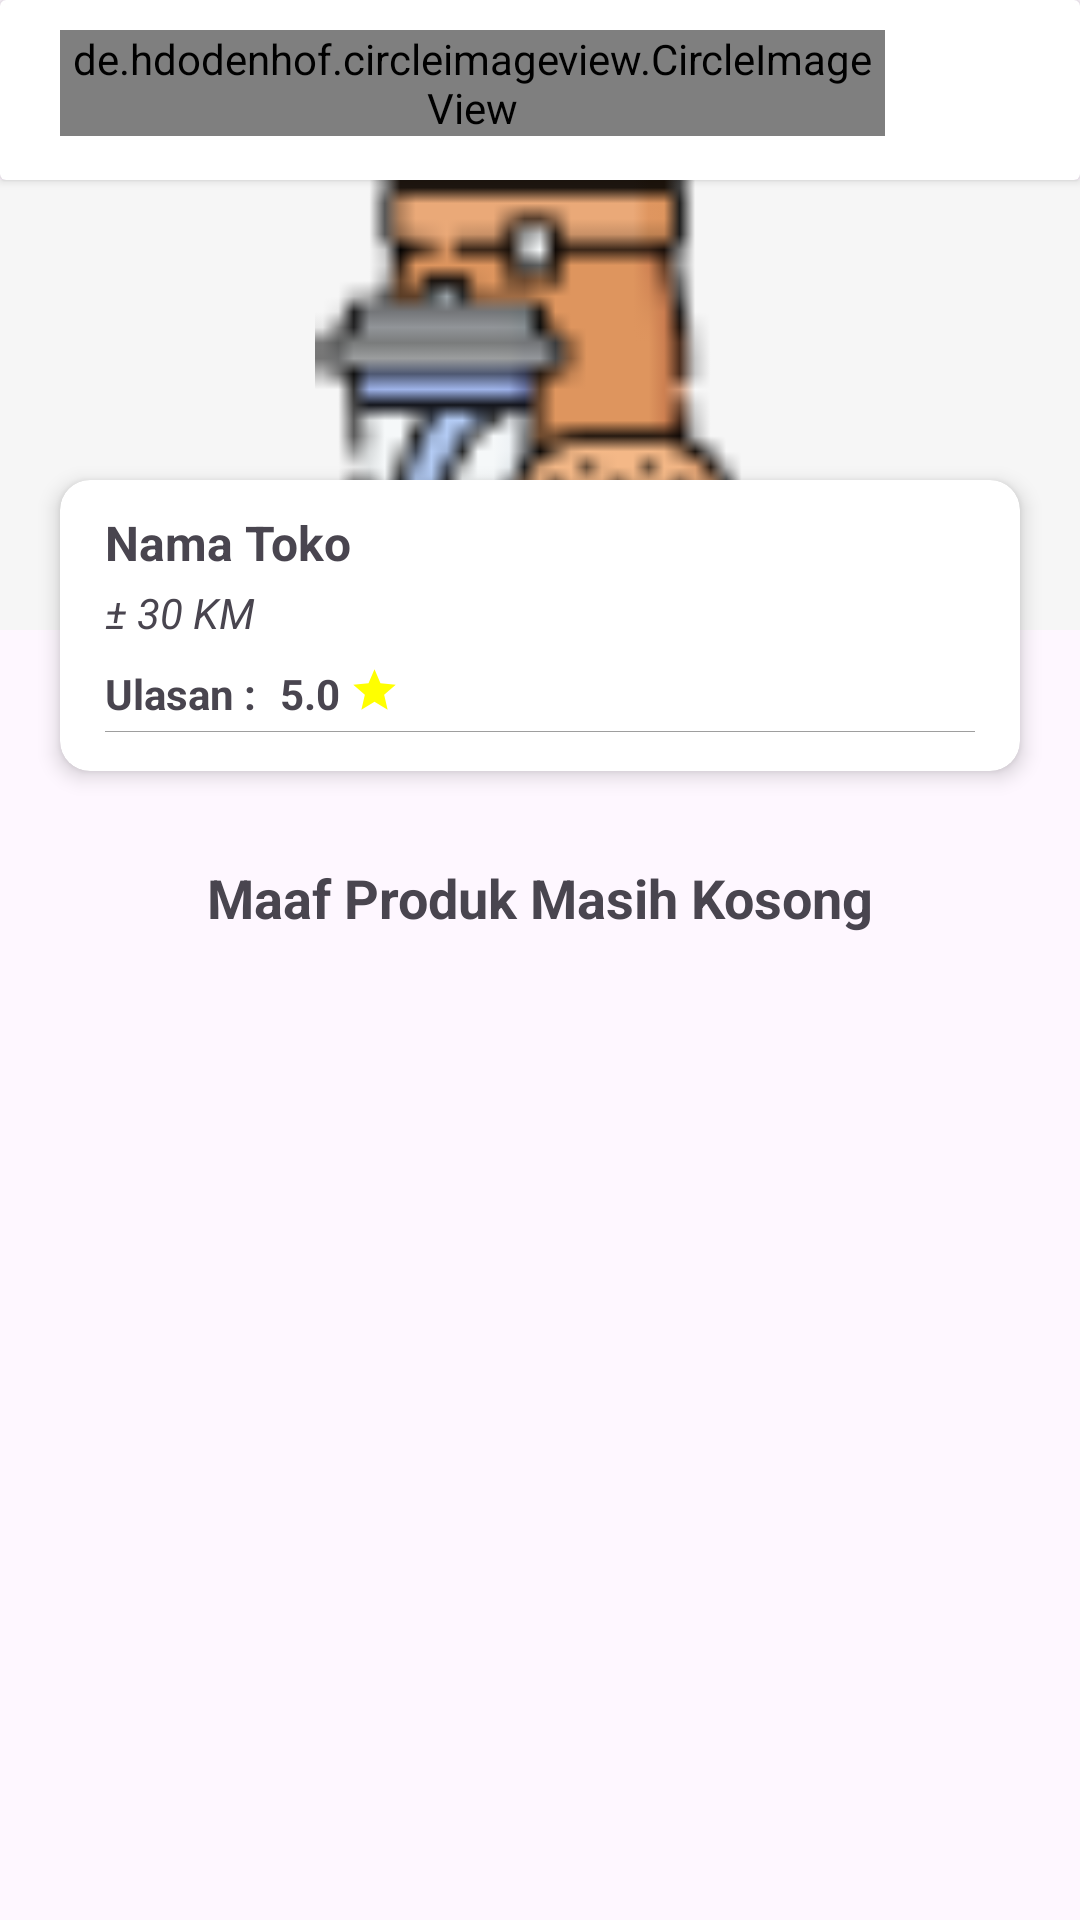

Locate icon controls on the screen. Image size 1080px×1920px, boxes as box(x1, y1, x2, y2).
star: box(353, 669, 396, 710)
